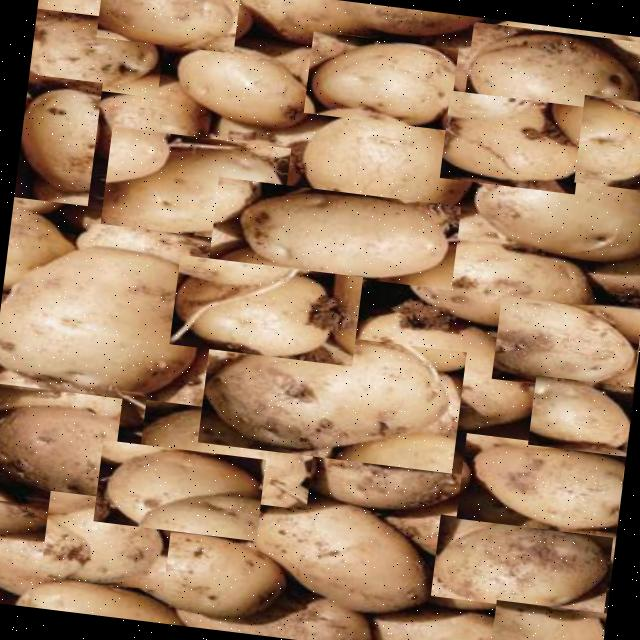Potato: (196, 321, 465, 473), (0, 240, 204, 412), (208, 176, 460, 290), (295, 86, 481, 234), (240, 482, 441, 614), (355, 292, 535, 432), (99, 126, 290, 245), (168, 254, 362, 366), (456, 155, 640, 267), (134, 400, 316, 510), (429, 514, 612, 617), (116, 528, 297, 628), (455, 432, 624, 538), (166, 36, 333, 142), (463, 21, 640, 120), (92, 440, 264, 540), (0, 382, 121, 513), (302, 31, 457, 130), (438, 90, 584, 194), (490, 294, 640, 395), (39, 490, 172, 590), (27, 8, 165, 97), (12, 74, 102, 205), (526, 374, 634, 457), (95, 0, 240, 53), (573, 94, 640, 192), (487, 599, 606, 640)
